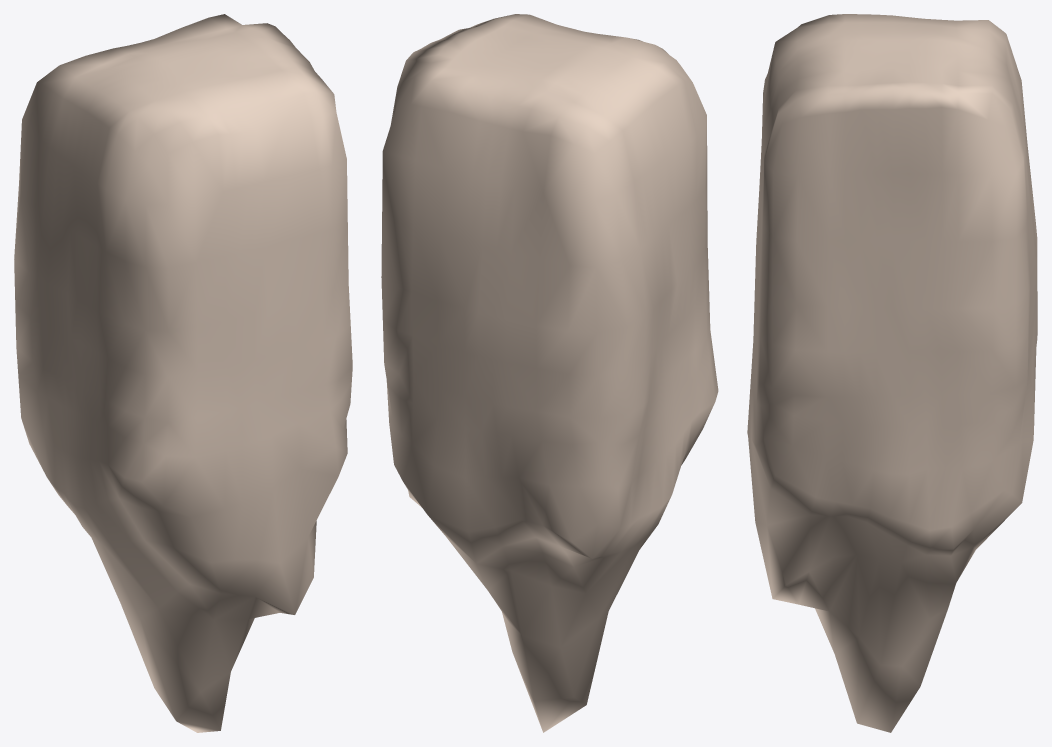
3 renders of one model, left to right at view 1: azimuth 30°, elevation 25°; view 2: azimuth 150°, elevation 25°; view 3: azimuth 270°, elevation 25°, orthographic. The views are drawn at different scales.
Parts seen in each view (by area): view 1: cube1; view 2: cube1; view 3: cube1.
Part boxes in pixels (left/top/right/bottom): cube1: left=14, top=14, right=352, bottom=732; cube1: left=381, top=14, right=718, bottom=732; cube1: left=747, top=14, right=1037, bottom=732.
Size of the model in its own units: 168 by 438 by 168.
